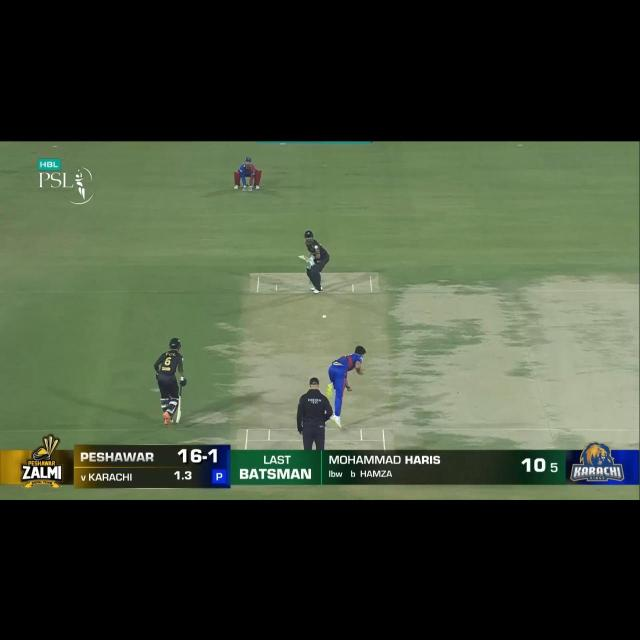bat: (176, 397, 182, 424), (295, 253, 310, 262)
toe: (174, 418, 181, 424), (297, 253, 303, 260)
